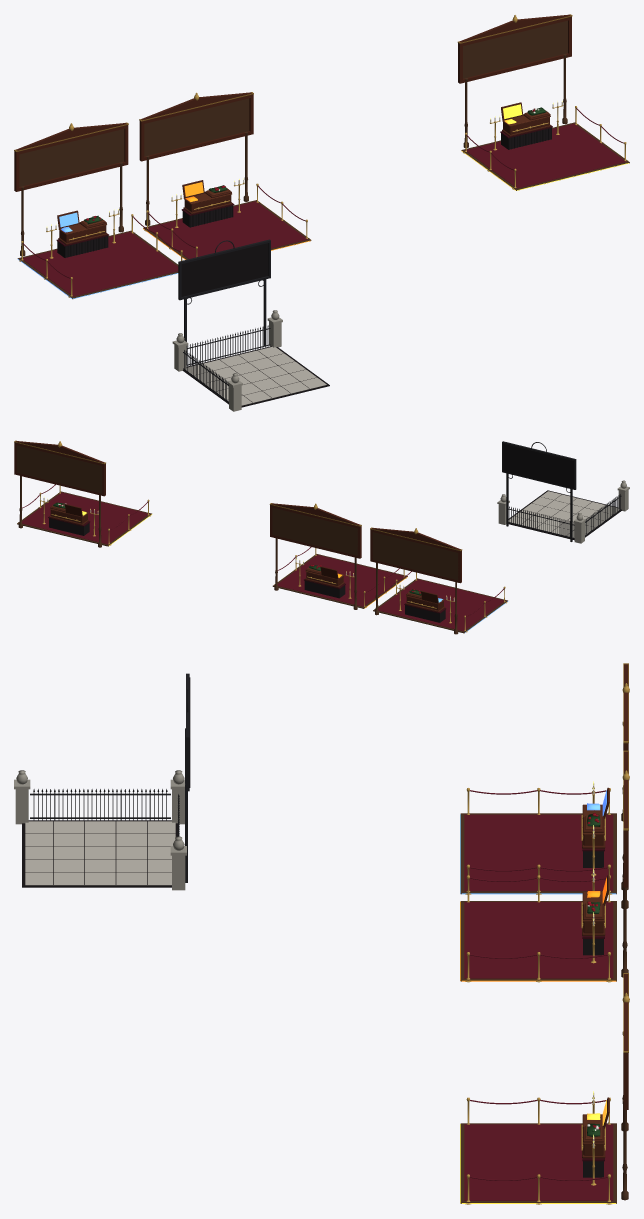
File: zh-pads.glb
The picture shows the model from 3 angles, top to bottom: view 1: azimuth 30°, elevation 25°; view 2: azimuth 150°, elevation 25°; view 3: azimuth 270°, elevation 25°; orthographic projection. The views are drawn at different scales.
Parts seen in each view (by area): view 1: zh-pads; view 2: zh-pads; view 3: zh-pads.
Part boxes in pixels (x1,y1,x2,y2): zh-pads: [14, 14, 629, 411]; zh-pads: [14, 440, 629, 634]; zh-pads: [14, 663, 629, 1204].
Size of the model in its own units: 29.5 by 6.05 by 19.67.
